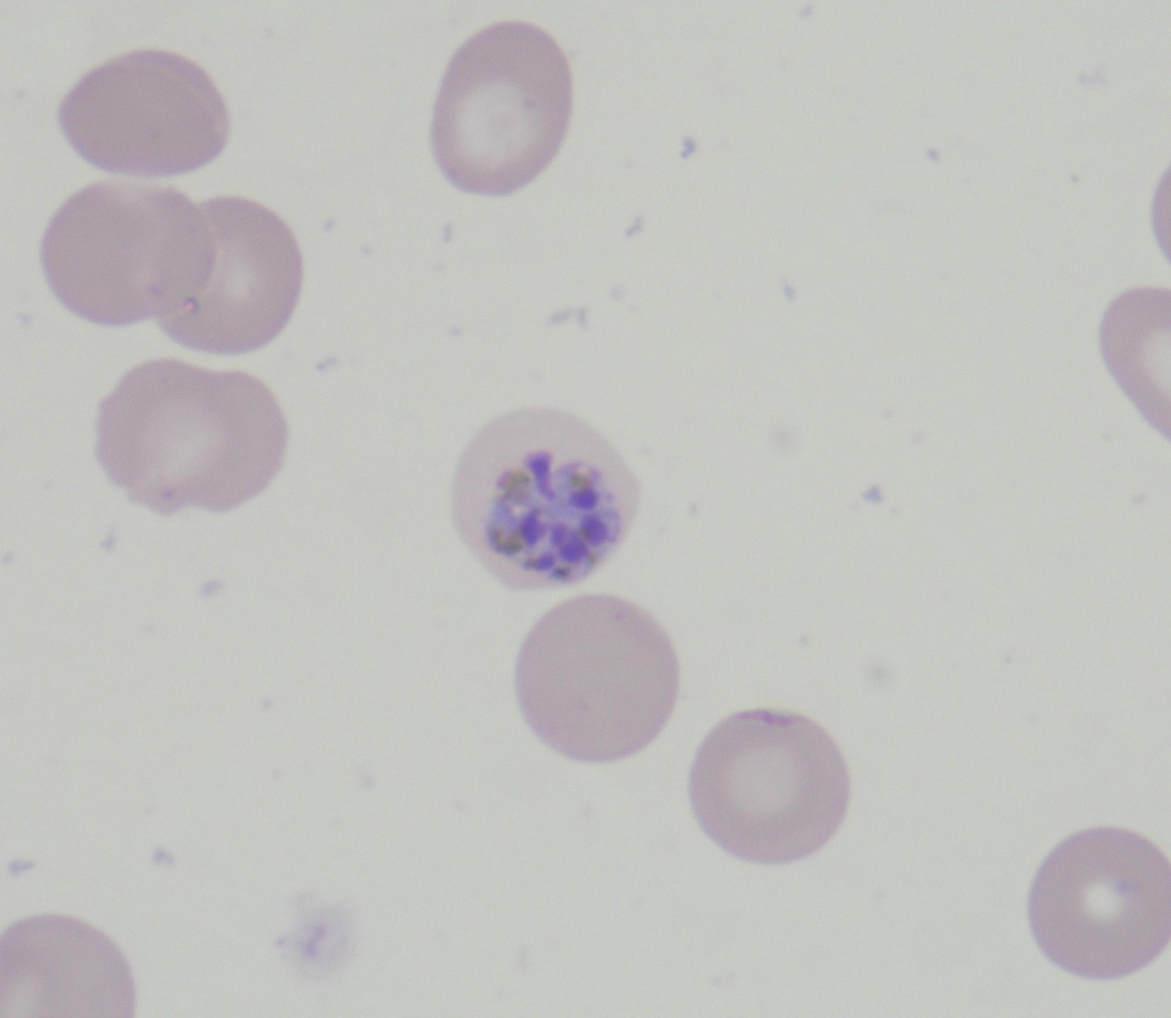Infected: (451, 408, 644, 593)
Uninfected: (93, 358, 284, 510), (514, 594, 683, 760), (38, 179, 211, 324), (689, 711, 851, 863), (432, 22, 569, 194), (151, 196, 299, 355), (58, 48, 232, 173), (1029, 829, 1171, 980), (0, 915, 136, 1018)
